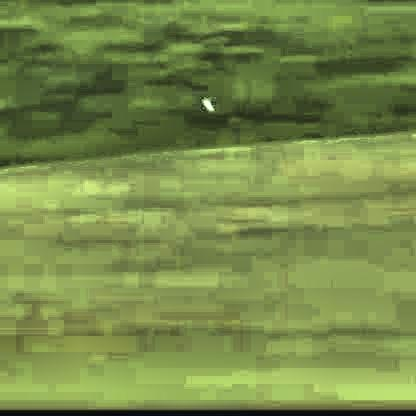golfball: (198, 97, 216, 113)
